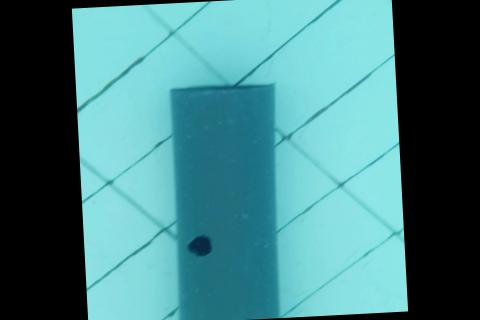kebocoran: (185, 233, 214, 258)
